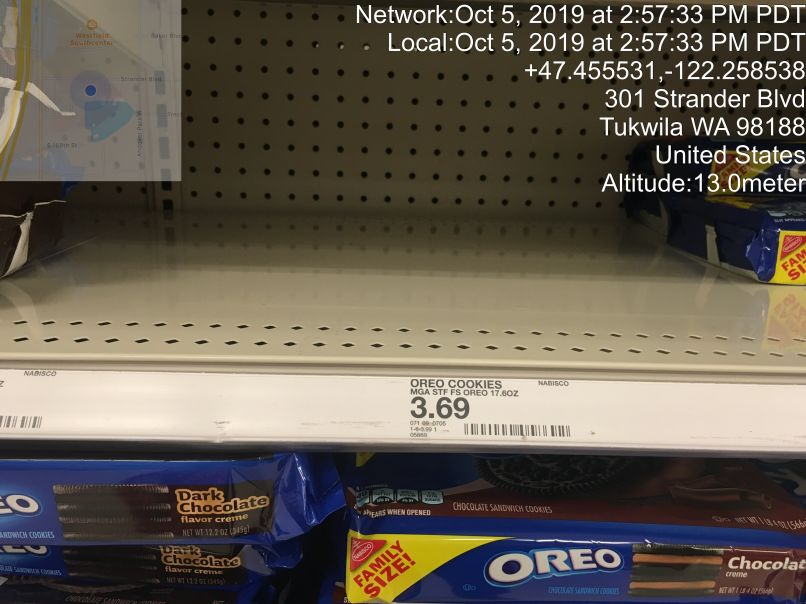Label: (401, 372, 592, 444)
Location: (596, 83, 806, 170)
Time: (350, 3, 806, 54)
Void: (44, 29, 606, 343)
